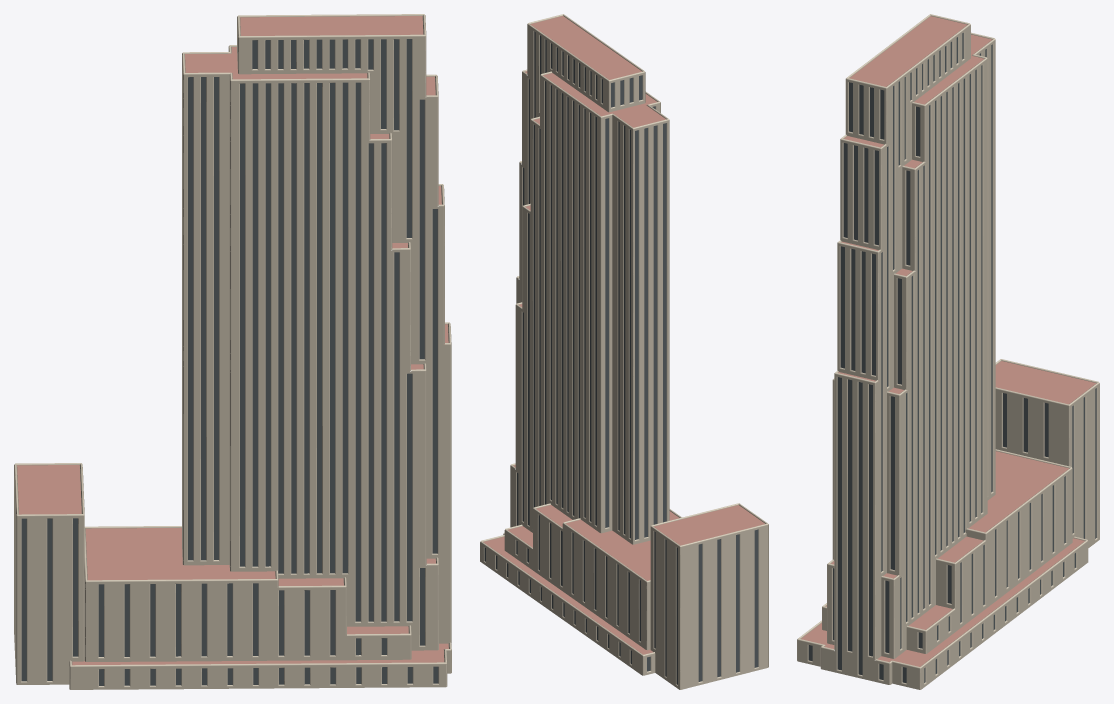
3 renders of one model, left to right at view 1: azimuth 30°, elevation 25°; view 2: azimuth 150°, elevation 25°; view 3: azimuth 270°, elevation 25°, orthographic. The views are drawn at different scales.
Parts seen in each view (by area): view 1: 30-rockefeller-plaza; view 2: 30-rockefeller-plaza; view 3: 30-rockefeller-plaza.
Boxes of the visible parts, left/top/right/bottom form: 30-rockefeller-plaza: left=14, top=14, right=451, bottom=689; 30-rockefeller-plaza: left=480, top=14, right=768, bottom=689; 30-rockefeller-plaza: left=797, top=14, right=1099, bottom=689.
Size of the model in its own units: 166 by 260 by 122.
